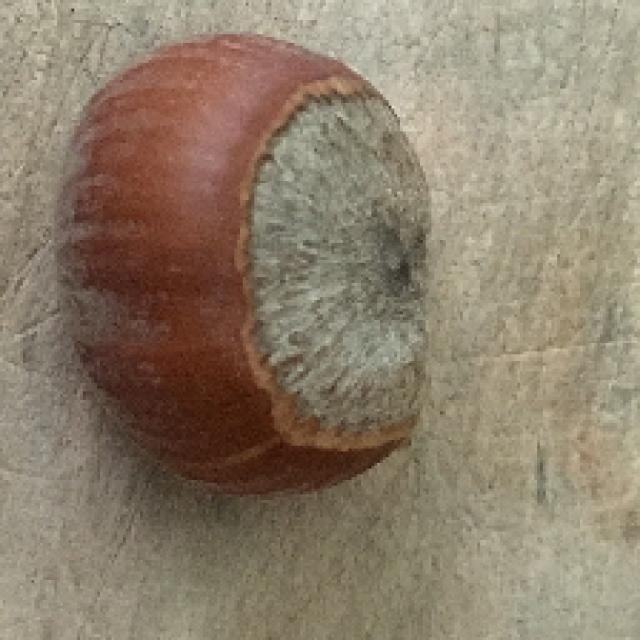qualityHazelnut: (39, 27, 446, 499)
